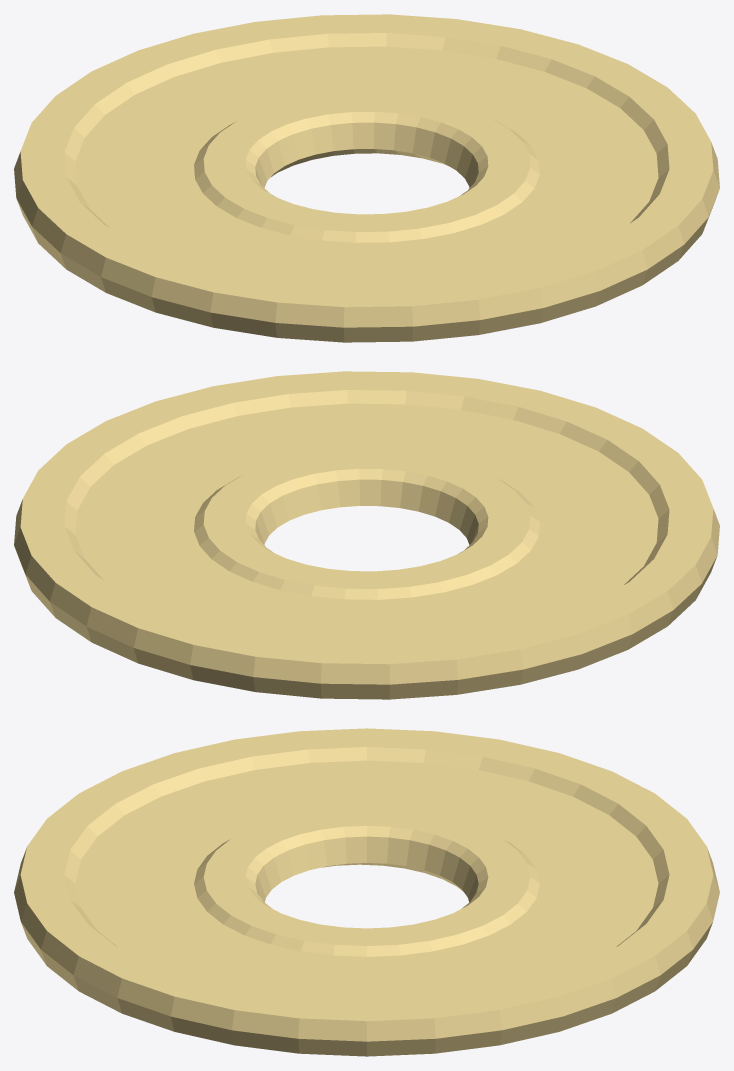
The model's file is moeda.fbx.
The picture shows the model from 3 angles, top to bottom: view 1: azimuth 30°, elevation 25°; view 2: azimuth 150°, elevation 25°; view 3: azimuth 270°, elevation 25°; orthographic projection.
Visible parts, largest first — view 1: Cylinder; view 2: Cylinder; view 3: Cylinder.
Part boxes in pixels (bbox=[...]): Cylinder: bbox=[14, 14, 719, 342]; Cylinder: bbox=[14, 371, 719, 699]; Cylinder: bbox=[14, 728, 719, 1056].
Bounding box in the file's own units: 204 × 12.48 × 204.
1 material, 1 textured.
